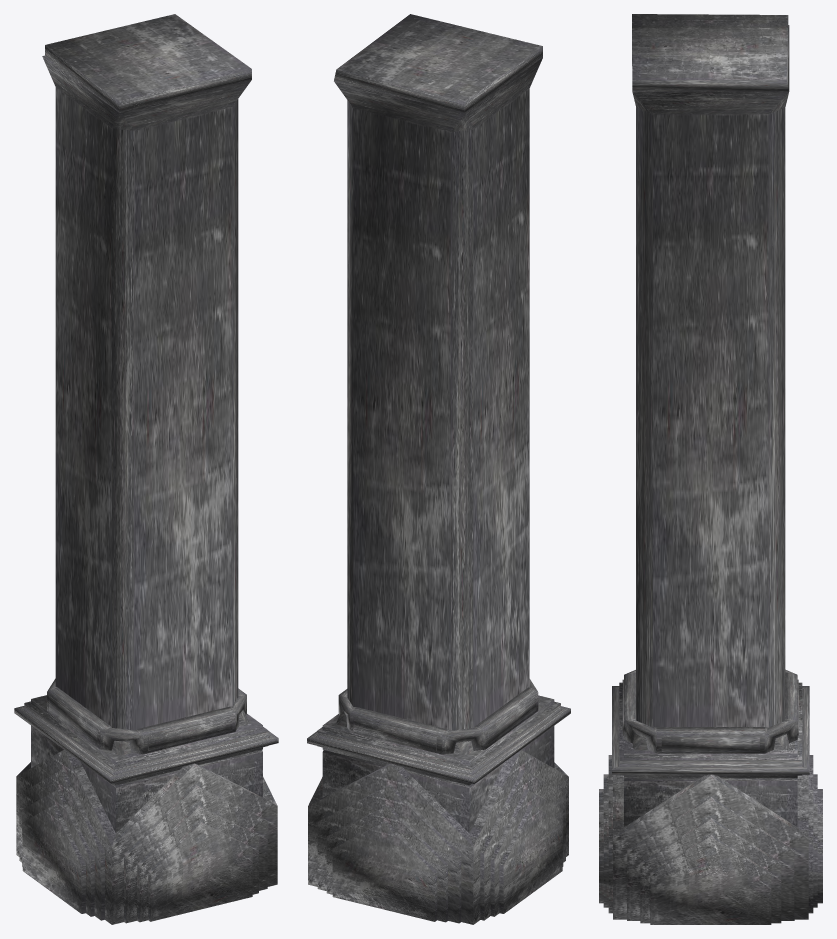
File: column1.fbx
3 renders of one model, left to right at view 1: azimuth 30°, elevation 25°; view 2: azimuth 150°, elevation 25°; view 3: azimuth 270°, elevation 25°, orthographic. The views are drawn at different scales.
Parts seen in each view (by area): view 1: column; view 2: column; view 3: column.
Part boxes in pixels (bbox=[...]): column: bbox=[14, 14, 278, 924]; column: bbox=[307, 14, 570, 924]; column: bbox=[599, 14, 822, 924].
Bounding box in the file's own units: 8.66 × 35.5 × 8.66.
